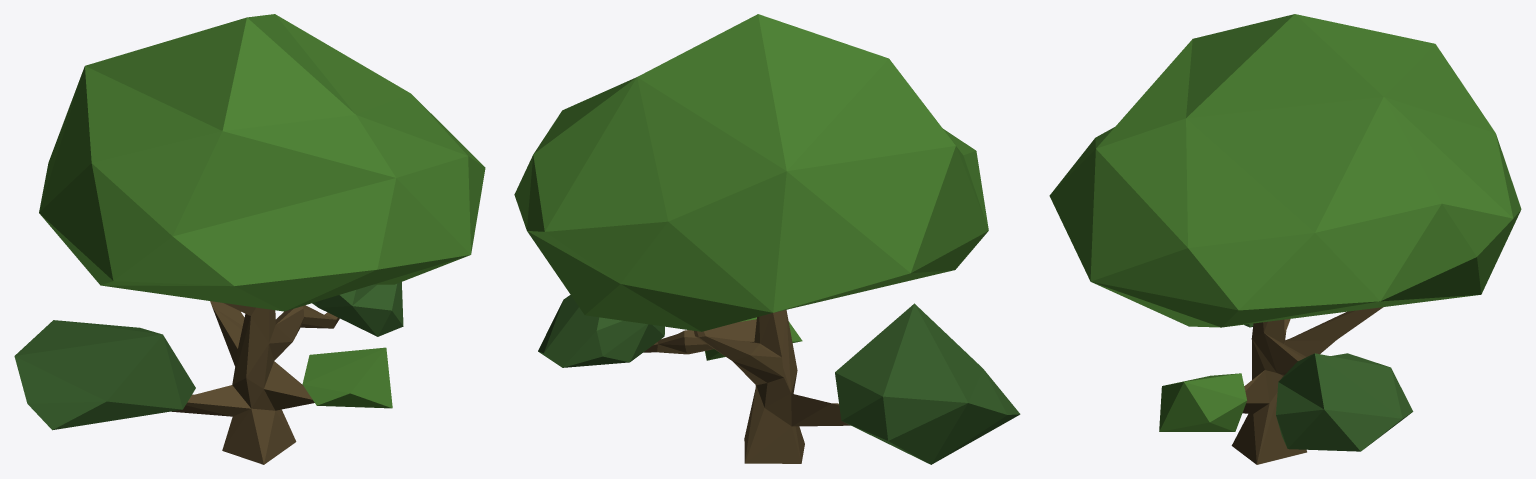
File: BirchTreeLOD.fbx
The picture shows the model from 3 angles, left to right: view 1: azimuth 30°, elevation 25°; view 2: azimuth 150°, elevation 25°; view 3: azimuth 270°, elevation 25°; orthographic projection. The views are drawn at different scales.
Visible parts, largest first — view 1: BirchTree_LOD0; view 2: BirchTree_LOD0; view 3: BirchTree_LOD0.
Part boxes in pixels (<box>): BirchTree_LOD0: <box>14,14,485,464</box>; BirchTree_LOD0: <box>514,14,1020,464</box>; BirchTree_LOD0: <box>1049,14,1521,464</box>.
Size of what is drawn, in the model's own units: 1110 by 1022 by 996.
